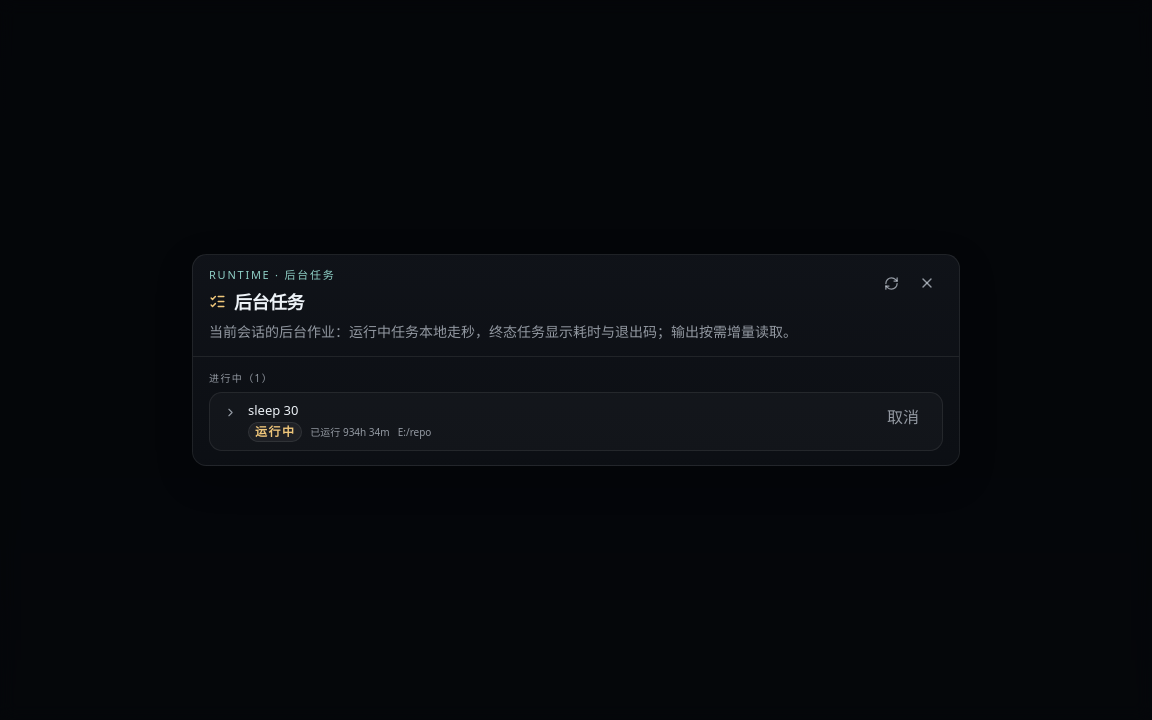
Test: JobsPanel › 展开的 live 任务跟随 job_output 事件增量（事件驱动）
Click the button named "查看 sleep 30 的输出".
click(230, 412)  # box 220,402 -> 240,422
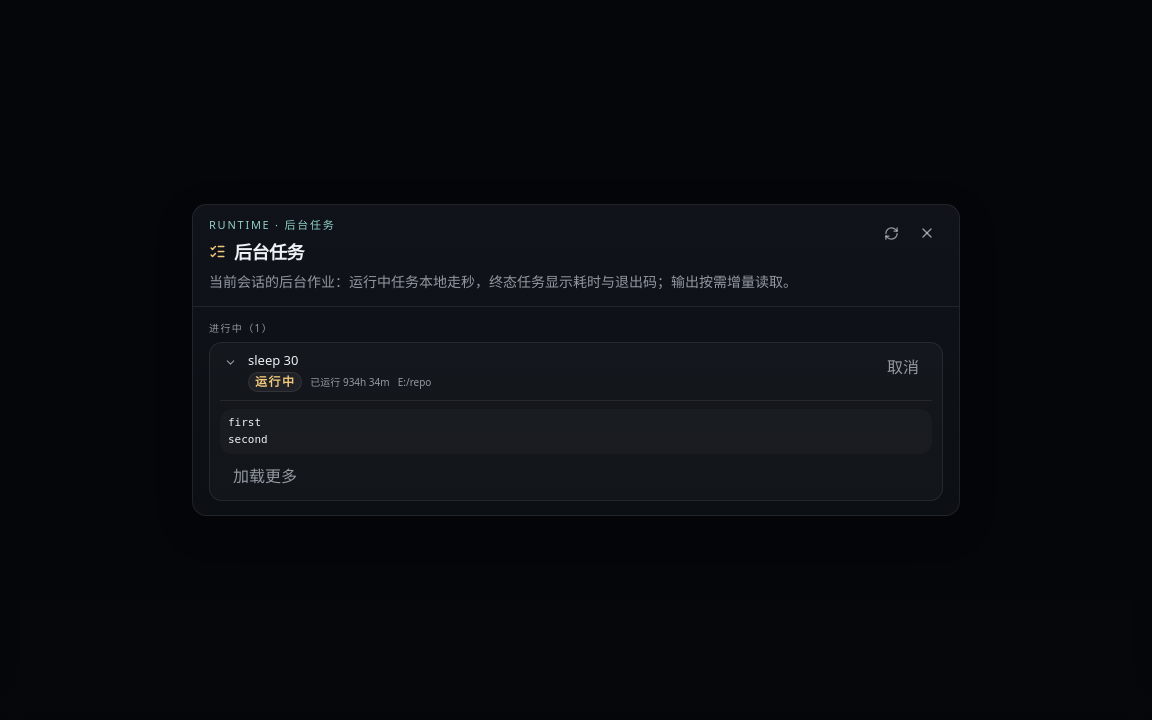
Result: the text "second" is shown at 228,416 -> 268,446
